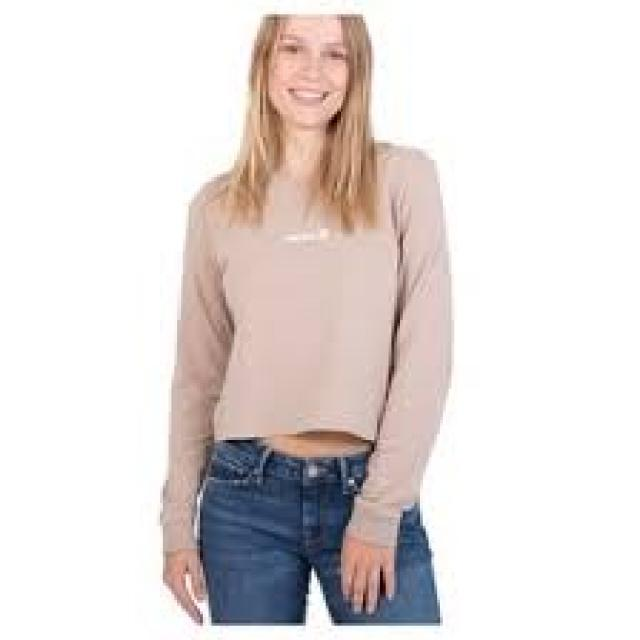plain: (108, 143, 498, 587)
